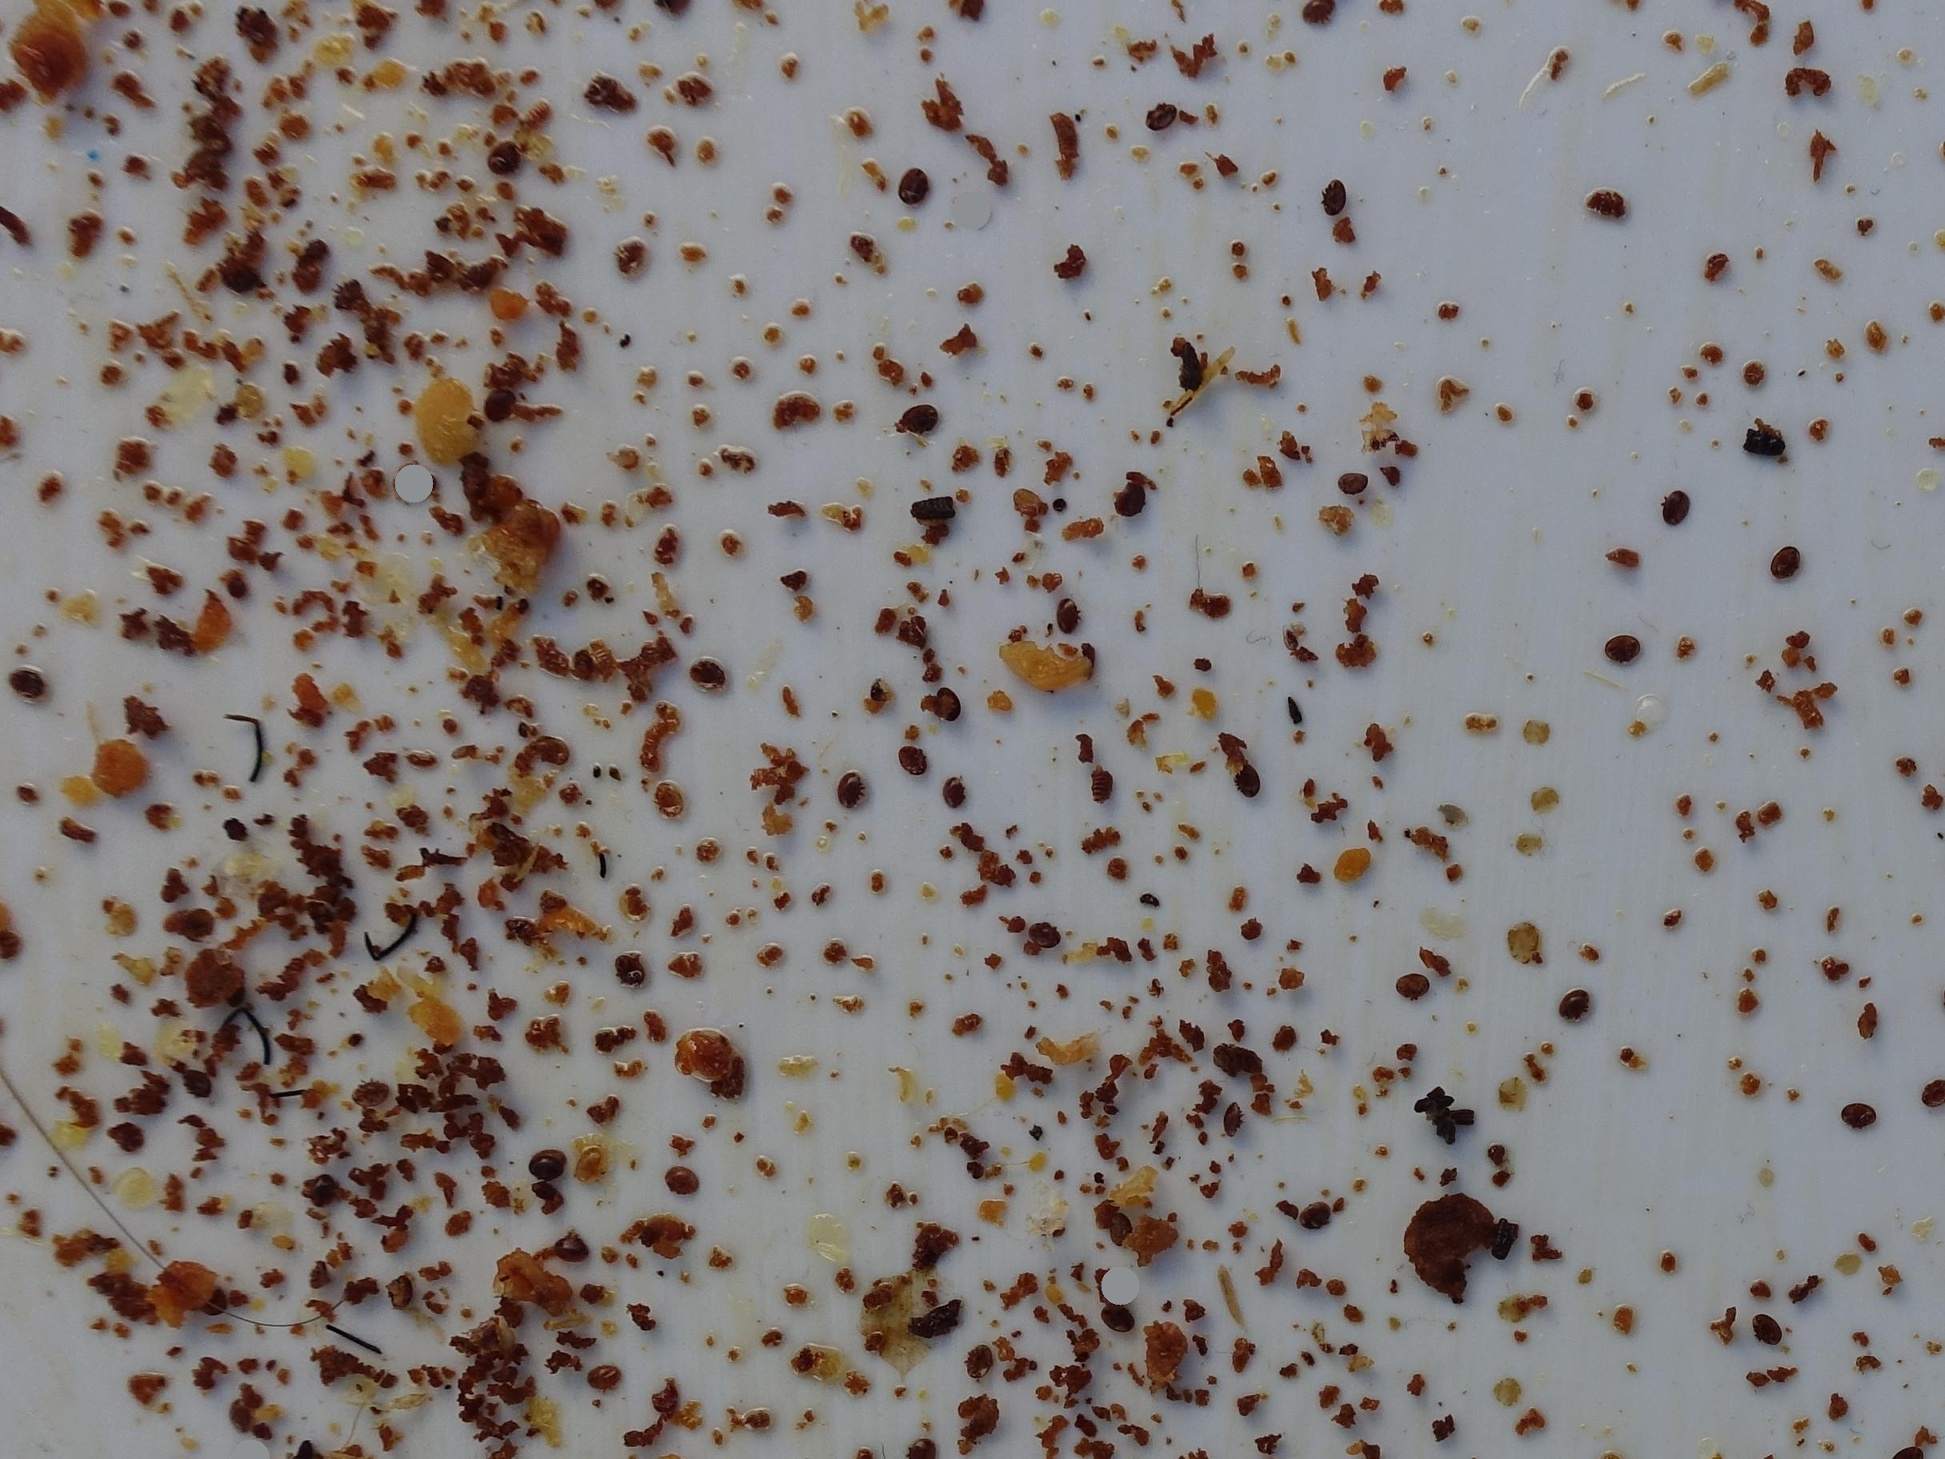Varroa: (330, 273, 368, 313), (532, 731, 572, 769), (356, 1084, 388, 1116), (15, 668, 46, 700), (589, 1358, 621, 1389), (904, 403, 935, 434), (651, 782, 682, 812), (307, 1175, 337, 1206), (1231, 765, 1261, 794), (184, 1071, 213, 1100), (668, 1169, 697, 1197), (1323, 182, 1350, 211), (959, 1352, 989, 1379), (1143, 106, 1173, 133), (1105, 1211, 1133, 1240), (558, 1231, 585, 1260), (1027, 920, 1054, 949), (1218, 1108, 1246, 1136), (898, 181, 926, 208), (526, 1157, 553, 1185), (1105, 1300, 1131, 1329), (618, 958, 644, 987), (1609, 636, 1635, 664), (705, 665, 731, 693), (1016, 490, 1042, 518), (1340, 470, 1366, 497), (1770, 549, 1796, 575), (1756, 1320, 1783, 1346), (687, 653, 713, 679), (1116, 490, 1142, 516), (490, 153, 517, 179), (903, 746, 927, 772), (935, 690, 959, 716), (1306, 5, 1330, 31), (1842, 1102, 1867, 1126), (1297, 1202, 1321, 1226), (943, 780, 967, 805), (840, 774, 864, 798), (1563, 996, 1586, 1021), (1404, 970, 1428, 993), (1054, 601, 1077, 625), (1661, 493, 1684, 516), (486, 395, 507, 420)
